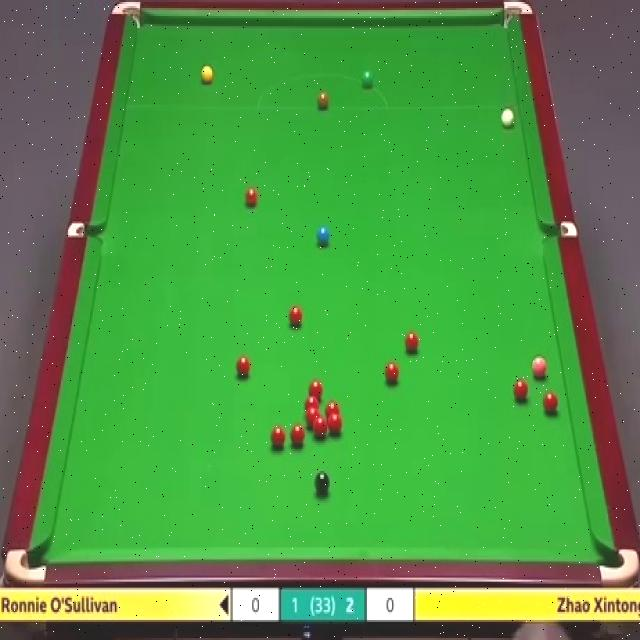black-ball: (314, 469, 330, 499)
blue-ball: (316, 226, 331, 247)
brown-ball: (316, 90, 329, 111)
green-ball: (360, 70, 374, 89)
pink-ball: (532, 354, 547, 380)
red-ball: (289, 422, 306, 450), (235, 354, 252, 381), (514, 378, 531, 402), (269, 425, 285, 449), (327, 413, 343, 437), (405, 330, 420, 355), (543, 392, 560, 414), (384, 362, 399, 386), (288, 306, 303, 328), (313, 416, 327, 438), (307, 380, 324, 396), (243, 188, 258, 206), (306, 408, 320, 427), (304, 395, 319, 411), (326, 404, 339, 416)
white-ball: (500, 108, 516, 128)
yellow-ball: (201, 66, 215, 86)
